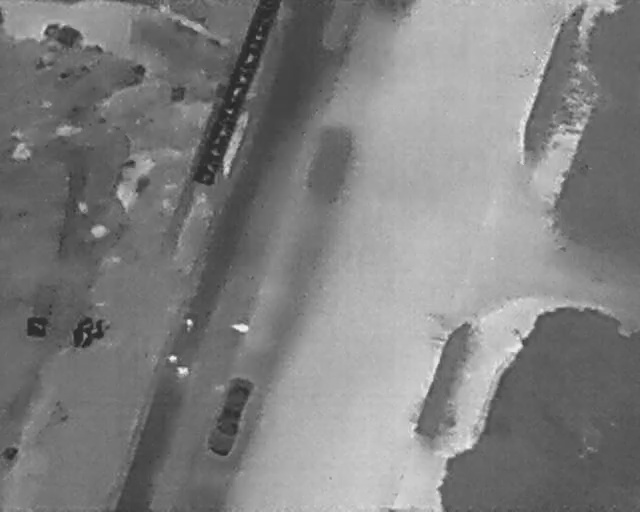Car: (203, 373, 257, 458)
Person: (184, 316, 193, 331), (179, 366, 190, 377), (167, 352, 177, 362)
